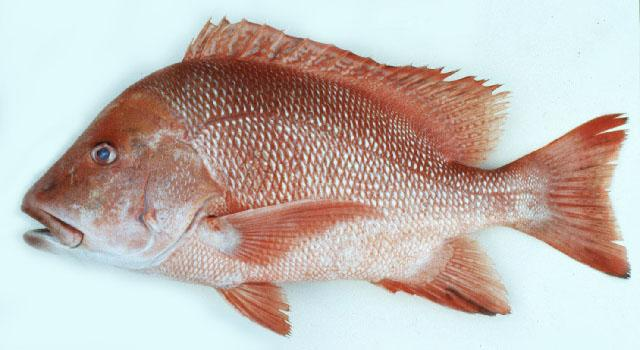Mulut: (1, 178, 76, 276)
Sirip Anal: (344, 228, 524, 328)
Sirip Dada: (175, 186, 403, 276)
Sirip Ekor: (520, 103, 636, 296)
Sirip Perut: (210, 269, 306, 345)
Sirip Punggung: (171, 2, 517, 172)
